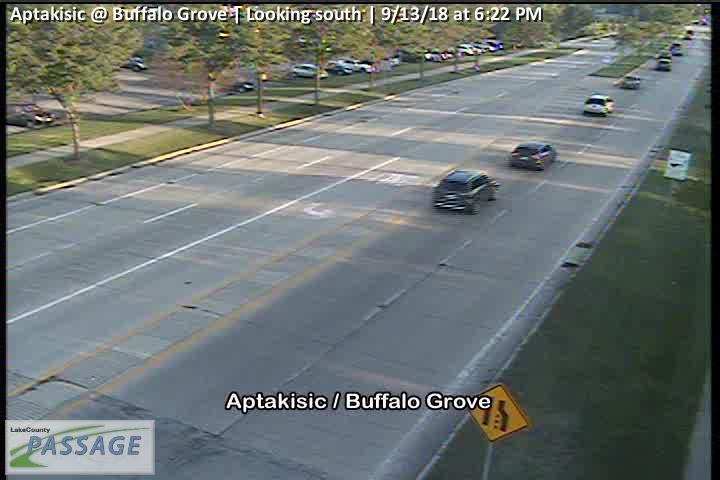SUV: (432, 170, 499, 214), (290, 64, 328, 78)
Sedan: (510, 142, 557, 170), (584, 94, 616, 115), (621, 75, 641, 88), (657, 58, 672, 70)
